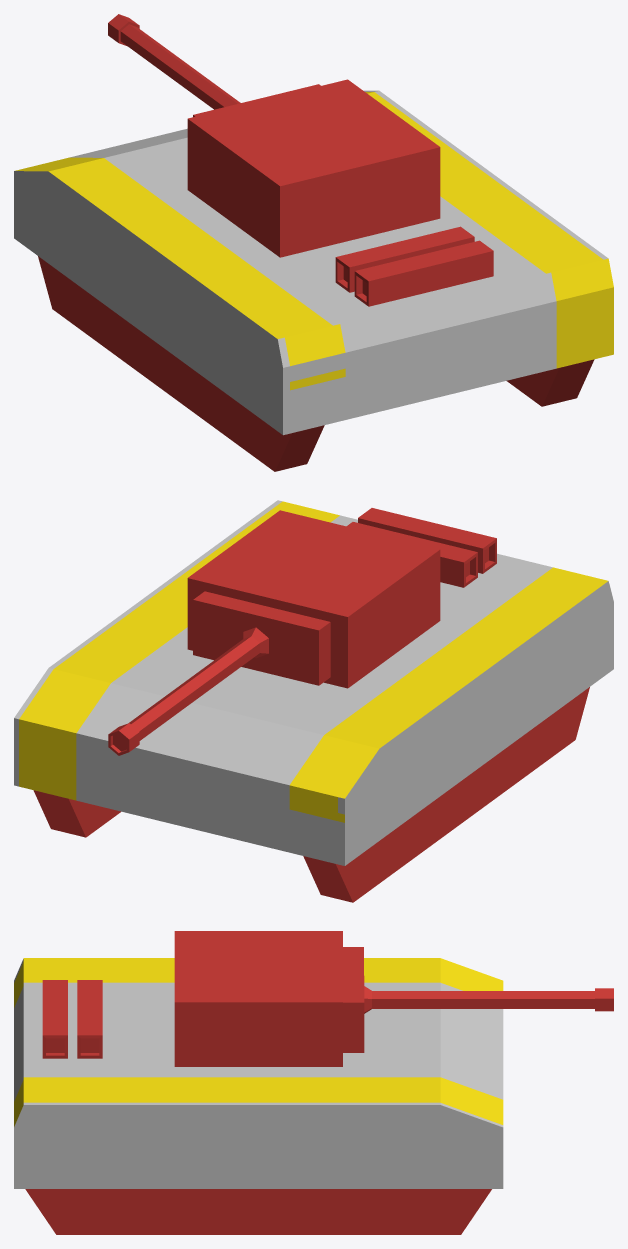
File: pichila4.obj
The picture shows the model from 3 angles, top to bottom: view 1: azimuth 30°, elevation 25°; view 2: azimuth 150°, elevation 25°; view 3: azimuth 270°, elevation 25°; orthographic projection. The views are drawn at different scales.
Visible parts, largest first — view 1: BaseTanke Tanke, object 3, Tanke tubito2 Tubitos, object 4, Tanke Tubitos tubito1; view 2: BaseTanke Tanke, object 3, object 4, Tanke tubito2 Tubitos, Tanke Tubitos tubito1; view 3: BaseTanke Tanke, object 3, object 4, Tanke tubito2 Tubitos, Tanke Tubitos tubito1.
Part boxes in pixels (left/top/right/bottom): BaseTanke Tanke: left=14, top=90, right=613, bottom=471; object 3: left=187, top=79, right=440, bottom=257; Tanke tubito2 Tubitos: left=354, top=240, right=493, bottom=306; object 4: left=108, top=14, right=240, bottom=109; Tanke Tubitos tubito1: left=335, top=226, right=474, bottom=292; BaseTanke Tanke: left=14, top=500, right=613, bottom=902; object 3: left=187, top=510, right=440, bottom=688; object 4: left=108, top=627, right=268, bottom=755; Tanke tubito2 Tubitos: left=358, top=508, right=496, bottom=573; Tanke Tubitos tubito1: left=346, top=522, right=477, bottom=587; BaseTanke Tanke: left=14, top=958, right=503, bottom=1234; object 3: left=174, top=931, right=364, bottom=1066; object 4: left=364, top=986, right=613, bottom=1013; Tanke tubito2 Tubitos: left=42, top=980, right=67, bottom=1058; Tanke Tubitos tubito1: left=77, top=980, right=102, bottom=1058.
Bounding box in the file's own units: 2.68 × 1.71 × 4.62.
